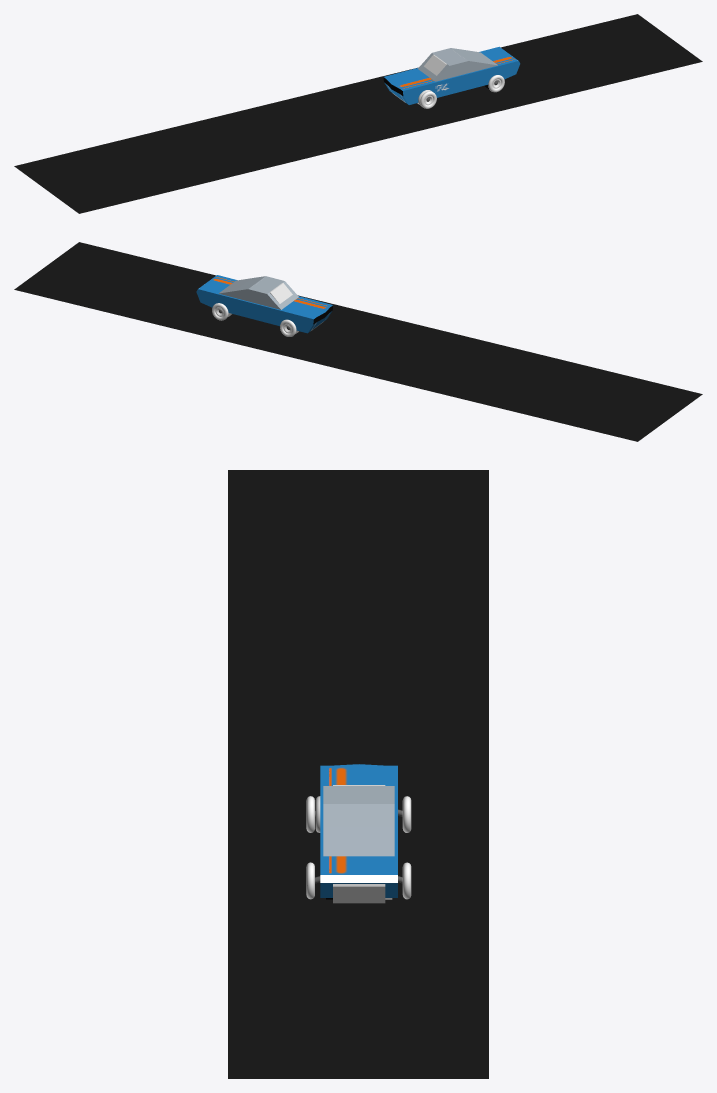
The model's file is car.glb.
3 views of the same model, one above another, from view 1: azimuth 30°, elevation 25°; view 2: azimuth 150°, elevation 25°; view 3: azimuth 270°, elevation 25° (orthographic). The views are drawn at different scales.
Parts seen in each view (by area): view 1: Road, Body, Hood; view 2: Road, Body, Hood; view 3: Road, Hood, Body, Body.001.
Part boxes in pixels (box(x1,y1,x2,y2)): Road: box(14, 14, 702, 213); Body: box(383, 46, 520, 104); Hood: box(418, 48, 497, 81); Road: box(14, 242, 702, 441); Body: box(196, 275, 333, 333); Hood: box(219, 276, 298, 309); Road: box(228, 470, 488, 1078); Hood: box(323, 786, 394, 856); Body: box(320, 764, 397, 897); Body.001: box(333, 785, 385, 903).
Size of the model in its own units: 20.2 by 1.08 by 3.66.
9 materials, 1 textured.
